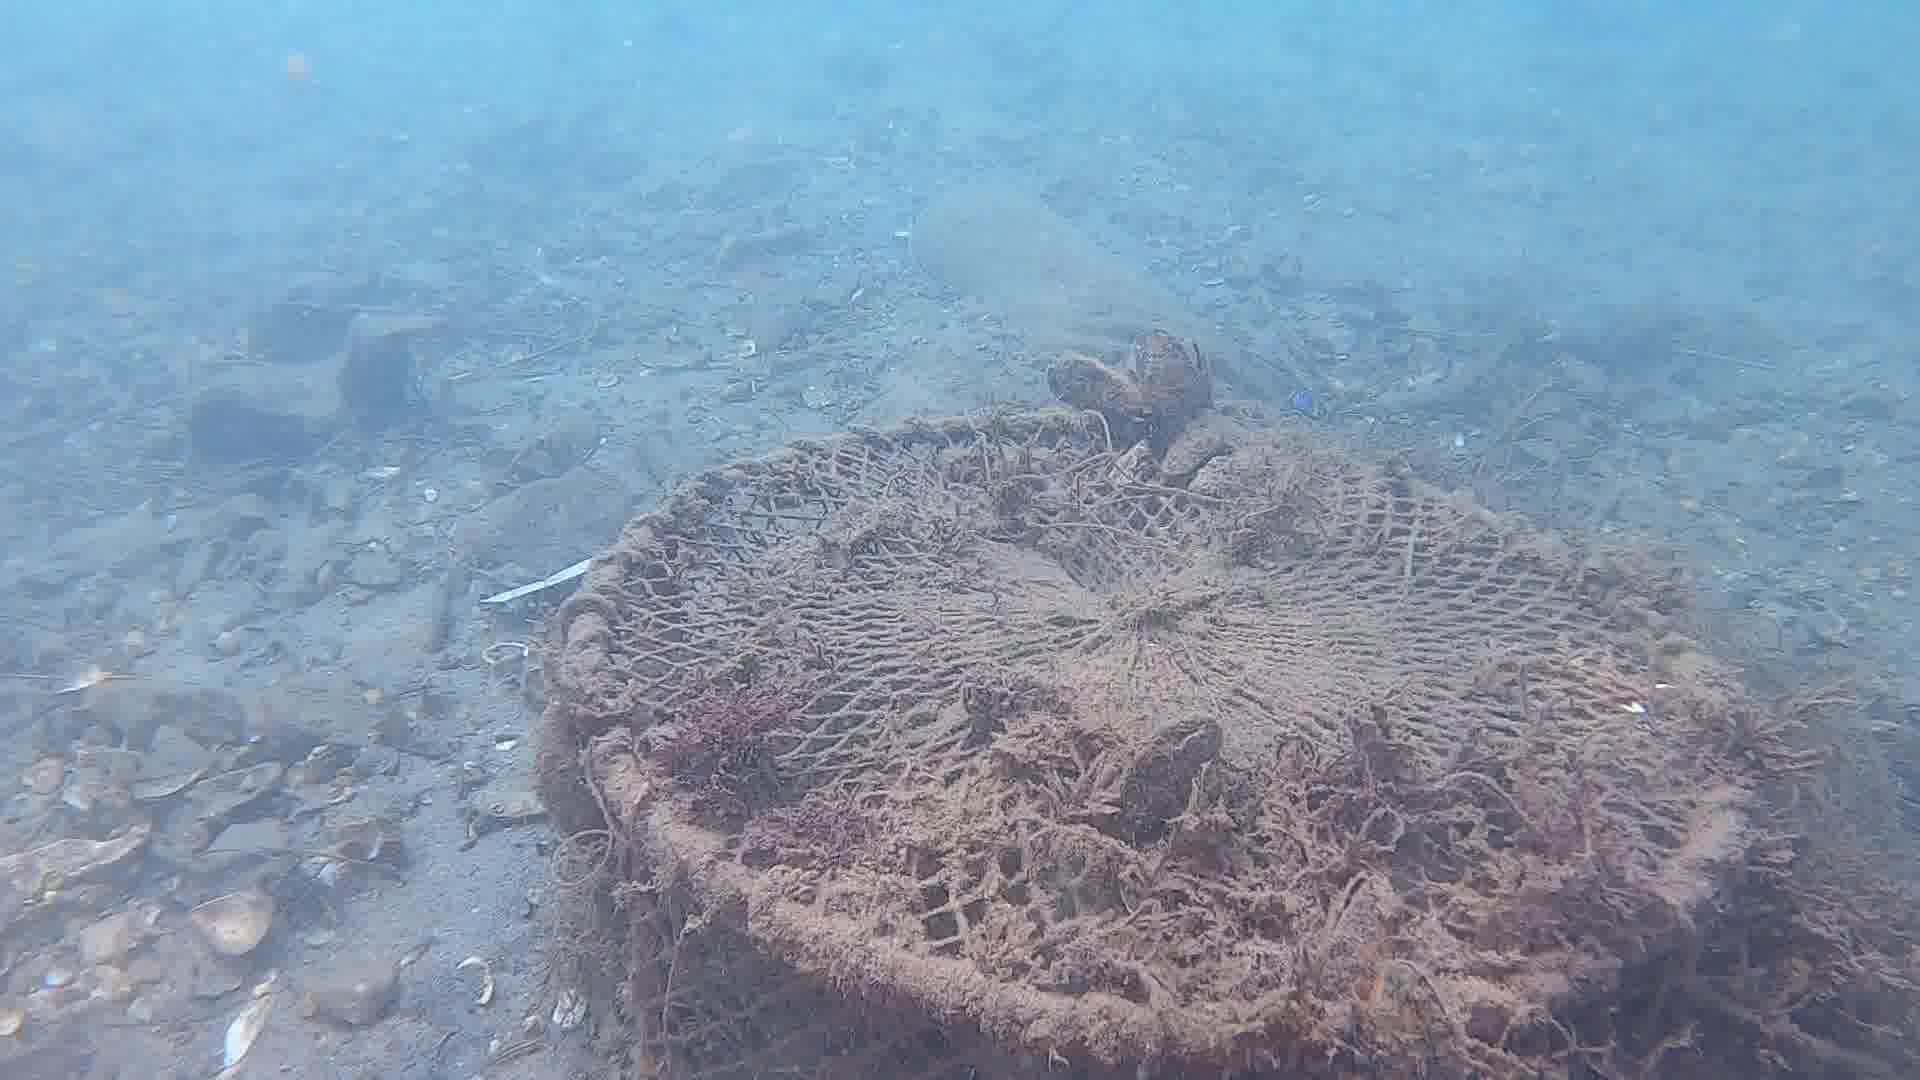circular fish trap: (556, 411, 1764, 1080)
